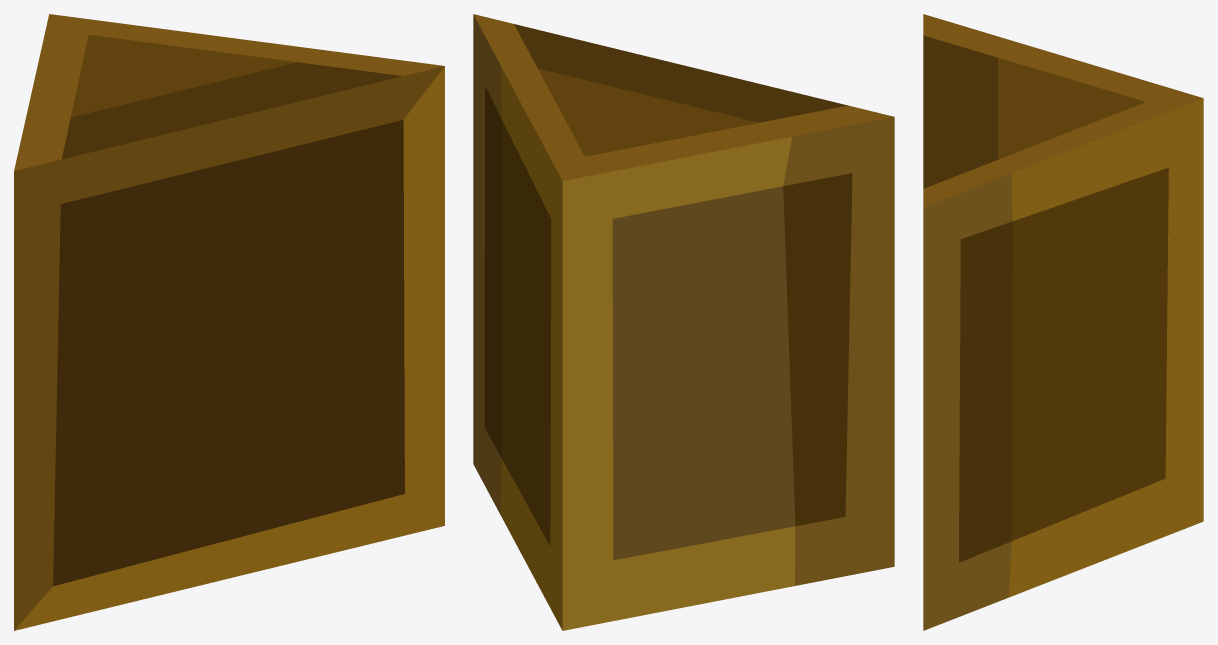
File: PenglantisArchwayGoldA.fbx
3 renders of one model, left to right at view 1: azimuth 30°, elevation 25°; view 2: azimuth 150°, elevation 25°; view 3: azimuth 270°, elevation 25°, orthographic. The views are drawn at different scales.
Visible parts, largest first — view 1: PenglantisArchwayGoldA; view 2: PenglantisArchwayGoldA; view 3: PenglantisArchwayGoldA.
Boxes of the visible parts, x1,y1,x2,y2 form: PenglantisArchwayGoldA: (14, 14, 444, 630); PenglantisArchwayGoldA: (473, 14, 894, 630); PenglantisArchwayGoldA: (923, 14, 1203, 630).
Bounding box in the file's own units: 33.47 × 34.13 × 20.47.
